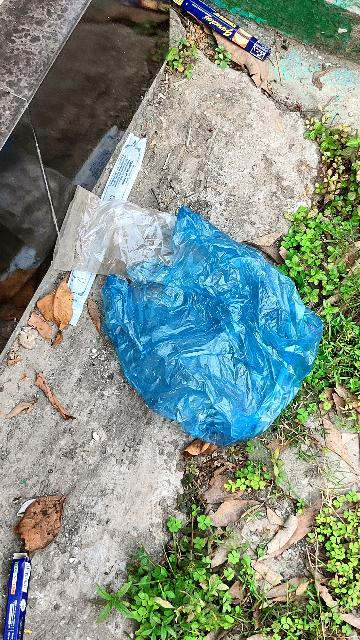polythene: (119, 220, 313, 431)
